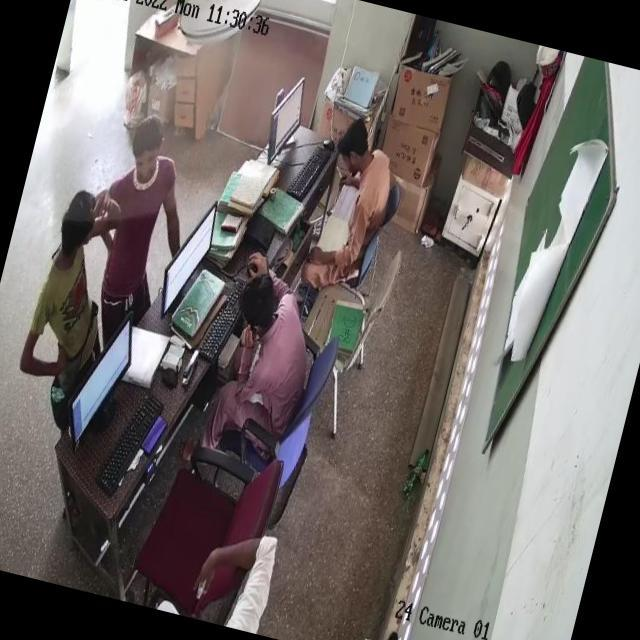person: (210, 264, 352, 456), (86, 110, 184, 303), (22, 195, 122, 382), (312, 109, 400, 256)
